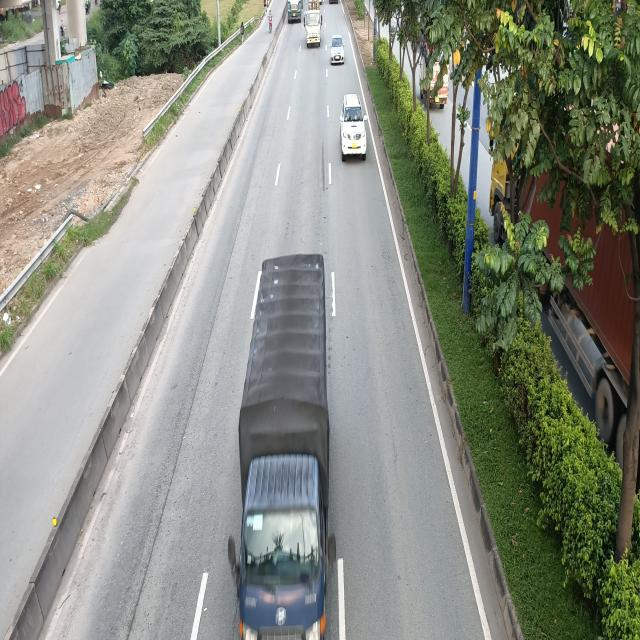car: (339, 96, 368, 162), (331, 34, 347, 64)
truck: (230, 255, 338, 639), (304, 0, 324, 49)
